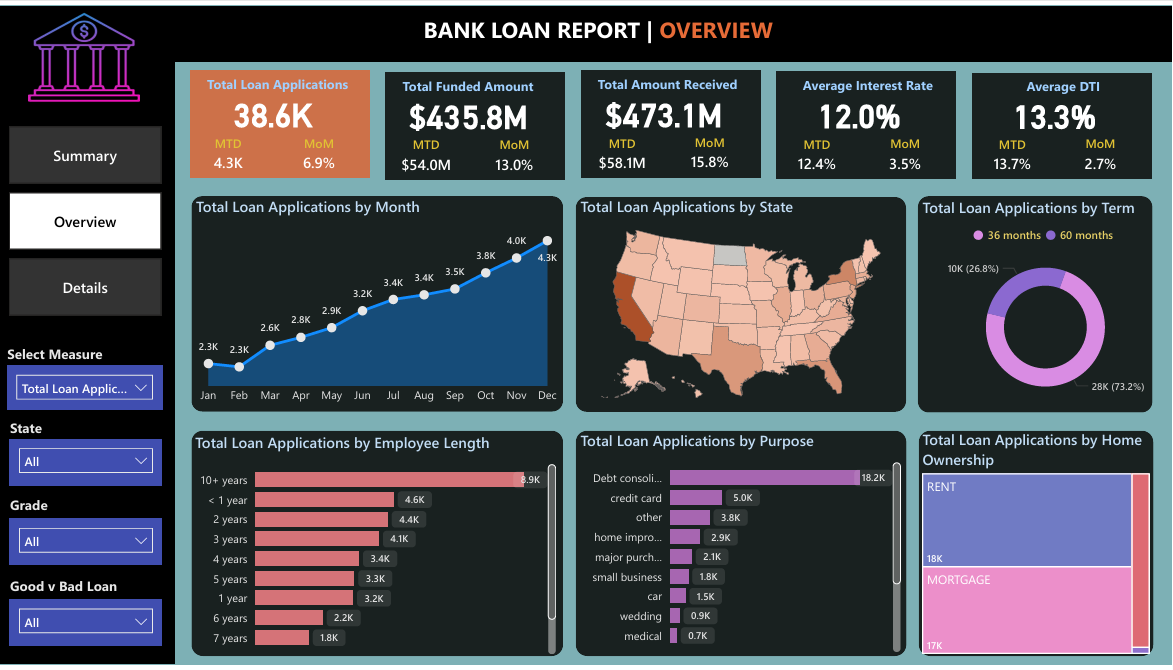

What the dashboard file says about the page in this screenshot:
{"tool":"powerbi","page":{"name":"Overview","canvas":[1280,720],"ordinal":1},"visuals":[{"type":"shape","box":[636.3,71,195.7,116.9],"z":0,"group":"g3"},{"type":"shape","box":[210.4,71.5,195.7,117.1],"z":0,"group":"g1"},{"type":"shape","box":[849.2,72,195.7,117.1],"z":0,"group":"g4"},{"type":"shape","box":[423.4,72.6,195.7,117],"z":0,"group":"g2"},{"type":"shape","box":[1062.2,74.5,195.7,115.6],"z":0,"group":"g5"},{"type":"shape","box":[210.9,208.5,405,235],"z":0},{"type":"shape","box":[0,1.4,1280,60.5],"z":1000},{"type":"card","fields":{"Values":["bank_loan_data.Total Amount Received"]},"box":[650.6,92,151.4,49.9],"z":1000,"group":"g3"},{"type":"card","fields":{"Values":["bank_loan_data.Total Loan Applications"]},"box":[224.7,92.5,151.4,50],"z":1000,"group":"g1"},{"type":"card","fields":{"Values":["bank_loan_data.Avg Interest Rate"]},"box":[863.5,93,151.4,50],"z":1000,"group":"g4"},{"type":"card","fields":{"Values":["bank_loan_data.Total Funded Amount"]},"box":[437.7,93.6,151.4,49.9],"z":1000,"group":"g2"},{"type":"card","fields":{"Values":["bank_loan_data.Avg DTI"]},"box":[1076.5,93.8,151.4,49.3],"z":1000,"group":"g5"},{"type":"shape","box":[0,51.4,192.9,667.1],"z":2000},{"type":"textbox","box":[649.2,71,172.9,35.6],"z":2000,"group":"g3"},{"type":"textbox","box":[223.3,71.5,172.9,35.7],"z":2000,"group":"g1"},{"type":"textbox","box":[862.1,72,172.9,35.7],"z":2000,"group":"g4"},{"type":"textbox","box":[436.3,72.6,172.9,35.7],"z":2000,"group":"g2"},{"type":"textbox","box":[1075.1,73.1,172.9,35.2],"z":2000,"group":"g5"},{"type":"textbox","box":[459.5,4.2,403.6,47.5],"z":3000},{"type":"card","title":"MTD","fields":{"Values":["bank_loan_data.MTD Loan Applications"]},"box":[221.8,141.1,60,42.9],"z":3000,"group":"g1"},{"type":"card","title":"MTD","fields":{"Values":["bank_loan_data.MTD Amount Received"]},"box":[647.7,141.2,67.1,46.8],"z":3000,"group":"g3"},{"type":"card","title":"MTD","fields":{"Values":["bank_loan_data.MTD Avg Interest Rate"]},"box":[860.6,142.2,65.7,46.8],"z":3000,"group":"g4"},{"type":"card","title":"MTD","fields":{"Values":["bank_loan_data.MTD Avg DTI"]},"box":[1073.6,142.4,65.7,46.2],"z":3000,"group":"g5"},{"type":"card","title":"MTD","fields":{"Values":["bank_loan_data.MTD Funded Amount"]},"box":[434.8,142.8,65.7,46.8],"z":3000,"group":"g2"},{"type":"group","id":"g1","title":"Group 1","box":[210.4,71.5,195.7,117.1],"z":4000},{"type":"card","title":"MoM","fields":{"Values":["bank_loan_data.MoM Amount Received"]},"box":[746.3,140.5,60,42.8],"z":4000,"group":"g3"},{"type":"card","title":"MoM","fields":{"Values":["bank_loan_data.MoM Avg Interest Rate"]},"box":[959.2,140.7,60,42.4],"z":4000,"group":"g4"},{"type":"card","title":"MoM","fields":{"Values":["bank_loan_data.MoM Avg DTI"]},"box":[1172.2,140.9,60,41.9],"z":4000,"group":"g5"},{"type":"card","title":"MoM","fields":{"Values":["bank_loan_data.MoM Loan Apllication"]},"box":[320.4,141.1,60,42.9],"z":4000,"group":"g1"},{"type":"card","title":"MoM","fields":{"Values":["bank_loan_data.MoM Funded Amount"]},"box":[533.4,141.3,60,42.4],"z":4000,"group":"g2"},{"type":"group","id":"g2","title":"Group 1","box":[423.4,72.6,195.7,117],"z":5000},{"type":"group","id":"g3","title":"Group 1","box":[636.3,71,195.7,117],"z":6000},{"type":"group","id":"g4","title":"Group 1","box":[849.2,72,195.7,117.1],"z":7000},{"type":"group","id":"g5","title":"Group 1","box":[1062.2,73.1,195.7,117.1],"z":8000},{"type":"slicer","fields":{"Values":["bank_loan_data.address_state"]},"box":[12.6,473.1,165.7,51.4],"z":9000},{"type":"textbox","box":[8.3,444.6,58.6,38.6],"z":10000},{"type":"slicer","fields":{"Values":["bank_loan_data.grade"]},"box":[12.6,560.3,165.7,51.4],"z":11000},{"type":"textbox","box":[8.3,528.9,70,38.6],"z":12000},{"type":"slicer","fields":{"Values":["bank_loan_data.Good v Bad Loan"]},"box":[12.6,648.4,165.7,51.4],"z":13000},{"type":"textbox","box":[8.1,617.6,159.2,37.7],"z":14000},{"type":"areaChart","fields":{"Y":["bank_loan_data.Total Loan Applications"],"Category":["Date Table.Month"]},"box":[210.9,208.1,406.4,234.6],"z":15000},{"type":"slicer","fields":{"Values":["Select Measure.Select Measure"]},"box":[9.7,393.3,168.6,48.6],"z":16000},{"type":"textbox","box":[5.4,364.7,122.9,38.6],"z":17000},{"type":"shape","box":[630,208.6,360,234.3],"z":18000},{"type":"shapeMap","fields":{"Value":["bank_loan_data.Total Loan Applications"],"Category":["bank_loan_data.address_state"]},"box":[629.9,208.1,360.3,234.6],"z":19000},{"type":"shape","box":[1002.8,208.1,255.6,236],"z":20000},{"type":"donutChart","fields":{"Y":["bank_loan_data.Total Loan Applications"],"Category":["bank_loan_data.term"]},"box":[1002.8,209.5,277.9,233.2],"z":21000},{"type":"shape","box":[210.9,463.7,405,245.8],"z":22000},{"type":"barChart","fields":{"Y":["bank_loan_data.Total Loan Applications"],"Category":["bank_loan_data.emp_length"]},"box":[210.4,466.2,403,246.2],"z":23000},{"type":"shape","box":[629.9,463.7,360.3,245.8],"z":24000},{"type":"barChart","fields":{"Y":["bank_loan_data.Total Loan Applications"],"Category":["bank_loan_data.purpose"]},"box":[629.9,463.7,358.9,245.8],"z":25000},{"type":"shape","box":[1004.2,463.7,255.6,245.8],"z":26000},{"type":"treemap","fields":{"Values":["bank_loan_data.Total Loan Applications"],"Group":["bank_loan_data.home_ownership"]},"box":[1002.6,463.5,257.2,248.9],"z":27000},{"type":"image","box":[27.5,1.4,132,111.4],"z":31000},{"type":"pageNavigator","box":[12.4,132,166.4,207.7],"z":31001}]}

Visuals, with their boxes in screenshot pixels (x1, y1, x2, y2), scaled from the page's 1280x720 canvas onto the 1173x670 screenshot:
shape: bbox=(583, 66, 762, 175)
shape: bbox=(193, 67, 372, 176)
shape: bbox=(778, 67, 958, 176)
shape: bbox=(388, 68, 567, 176)
shape: bbox=(973, 69, 1153, 177)
shape: bbox=(193, 194, 564, 413)
shape: bbox=(0, 1, 1172, 58)
card - bank_loan_data.Total Amount Received: bbox=(596, 86, 735, 132)
card - bank_loan_data.Total Loan Applications: bbox=(206, 86, 345, 133)
card - bank_loan_data.Avg Interest Rate: bbox=(791, 87, 930, 133)
card - bank_loan_data.Total Funded Amount: bbox=(401, 87, 540, 134)
card - bank_loan_data.Avg DTI: bbox=(987, 87, 1125, 133)
shape: bbox=(0, 48, 177, 669)
textbox: bbox=(595, 66, 753, 99)
textbox: bbox=(205, 67, 363, 100)
textbox: bbox=(790, 67, 948, 100)
textbox: bbox=(400, 68, 558, 101)
textbox: bbox=(985, 68, 1144, 101)
textbox: bbox=(421, 4, 791, 48)
"MTD" card: bbox=(203, 131, 258, 171)
"MTD" card: bbox=(594, 131, 655, 175)
"MTD" card: bbox=(789, 132, 849, 176)
"MTD" card: bbox=(984, 133, 1044, 176)
"MTD" card: bbox=(398, 133, 459, 176)
"Group 1" group: bbox=(193, 67, 372, 176)
"MoM" card: bbox=(684, 131, 739, 171)
"MoM" card: bbox=(879, 131, 934, 170)
"MoM" card: bbox=(1074, 131, 1129, 170)
"MoM" card: bbox=(294, 131, 349, 171)
"MoM" card: bbox=(489, 131, 544, 171)
"Group 1" group: bbox=(388, 68, 567, 176)
"Group 1" group: bbox=(583, 66, 762, 175)
"Group 1" group: bbox=(778, 67, 958, 176)
"Group 1" group: bbox=(973, 68, 1153, 177)
slicer - bank_loan_data.address_state: bbox=(12, 440, 163, 488)
textbox: bbox=(8, 414, 61, 450)
slicer - bank_loan_data.grade: bbox=(12, 521, 163, 569)
textbox: bbox=(8, 492, 72, 528)
slicer - bank_loan_data.Good v Bad Loan: bbox=(12, 603, 163, 651)
textbox: bbox=(7, 575, 153, 610)
areaChart - bank_loan_data.Total Loan Applications x Date Table.Month: bbox=(193, 194, 566, 412)
slicer - Select Measure.Select Measure: bbox=(9, 366, 163, 411)
textbox: bbox=(5, 339, 118, 375)
shape: bbox=(577, 194, 907, 412)
shapeMap - bank_loan_data.Total Loan Applications x bank_loan_data.address_state: bbox=(577, 194, 907, 412)
shape: bbox=(919, 194, 1153, 413)
donutChart - bank_loan_data.Total Loan Applications x bank_loan_data.term: bbox=(919, 195, 1172, 412)
shape: bbox=(193, 431, 564, 660)
barChart - bank_loan_data.Total Loan Applications x bank_loan_data.emp_length: bbox=(193, 434, 562, 663)
shape: bbox=(577, 431, 907, 660)
barChart - bank_loan_data.Total Loan Applications x bank_loan_data.purpose: bbox=(577, 431, 906, 660)
shape: bbox=(920, 431, 1154, 660)
treemap - bank_loan_data.Total Loan Applications x bank_loan_data.home_ownership: bbox=(919, 431, 1154, 663)
image: bbox=(25, 1, 146, 105)
pageNavigator: bbox=(11, 123, 164, 316)
